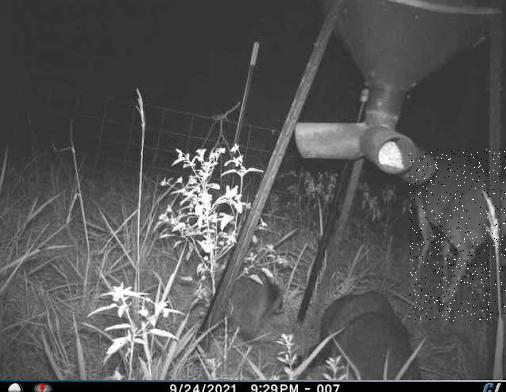Deer: (409, 149, 506, 321)
